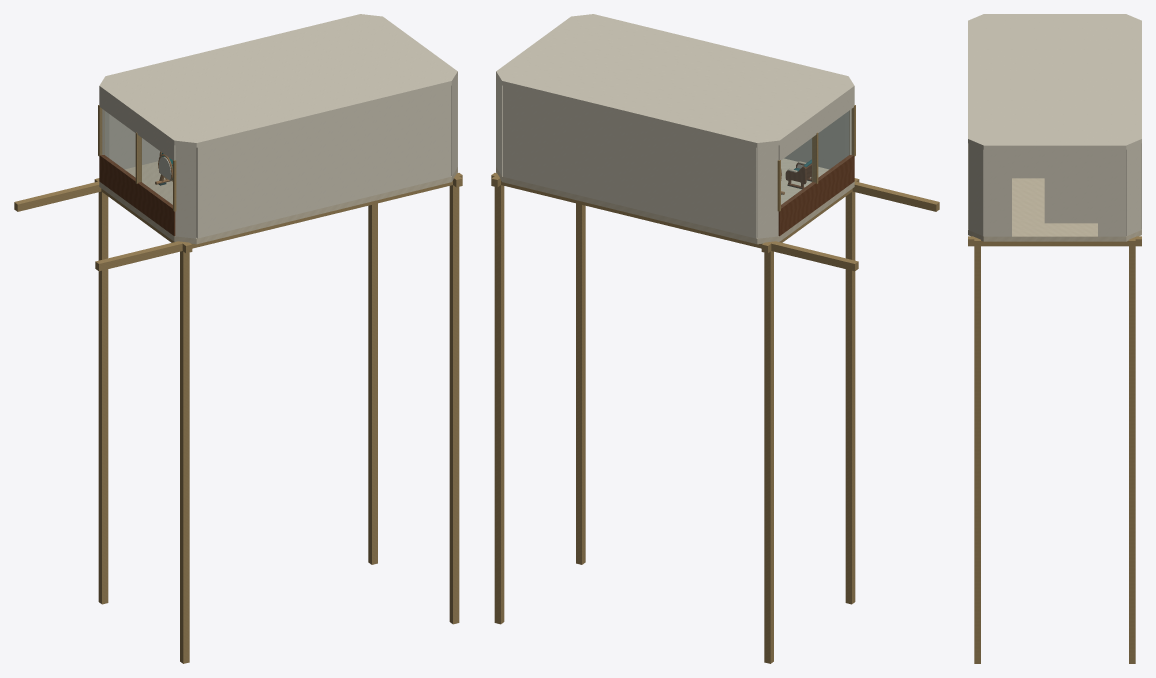
File: D04_PORT_CENTRAL_HOME_881_r001.glb
3 renders of one model, left to right at view 1: azimuth 30°, elevation 25°; view 2: azimuth 150°, elevation 25°; view 3: azimuth 270°, elevation 25°, orthographic. The views are drawn at different scales.
Visible parts, largest first — view 1: PC881_D04H880_Roof, PC881_D04H880_Shell_3, PC881_D04H880_Pier_4, PC881_D04H880_Pier_1, PC881_D04H880_Pier_2, PC881_D04H880_Pier_3, PC881_D04H880_Floor, PC881_D04H880_GardenGlass, PC881_D04H880_GardenDado, PC881_D04H880_FloorCross_1, PC881_D04H880_Shell_2, PC881_D04H880_Shell_7 (+2 smaller); view 2: PC881_D04H880_Roof, PC881_D04H880_Shell_7, PC881_D04H880_Pier_3, PC881_D04H880_Pier_2, PC881_D04H880_Pier_1, PC881_D04H880_Pier_4, PC881_D04H880_GardenGlass, PC881_D04H880_Floor, PC881_D04H880_GardenDado, PC881_D04H880_FloorCross_0, PC881_D04H880_Shell_0, PC881_D04H880_Shell_3 (+2 smaller); view 3: PC881_D04H880_Roof, PC881_D04H880_Floor, PC881_D04H880_Pier_3, PC881_D04H880_Pier_4, PC881_D04H880_EntryWall_0, PC881_D04H880_EntryWall_1, PC881_D04H880_EntryHeader, PC881_D04H880_BathDogleg, PC881_D04H880_Shell_4, PC881_D04H880_Shell_6, PC881_D04H880_Long_-46.349999999999994.
Part boxes in pixels (bbox=[...]): PC881_D04H880_Roof: bbox=[99, 14, 457, 147]; PC881_D04H880_Shell_3: bbox=[196, 85, 450, 238]; PC881_D04H880_Pier_4: bbox=[449, 175, 459, 624]; PC881_D04H880_Pier_1: bbox=[98, 191, 108, 604]; PC881_D04H880_Pier_2: bbox=[180, 241, 189, 663]; PC881_D04H880_Pier_3: bbox=[368, 203, 377, 564]; PC881_D04H880_Floor: bbox=[99, 161, 457, 244]; PC881_D04H880_GardenGlass: bbox=[101, 111, 172, 206]; PC881_D04H880_GardenDado: bbox=[99, 155, 175, 236]; PC881_D04H880_FloorCross_1: bbox=[95, 173, 462, 271]; PC881_D04H880_Shell_2: bbox=[175, 145, 196, 238]; PC881_D04H880_Shell_7: bbox=[109, 114, 160, 169]; PC881_D04H880_Roof: bbox=[496, 14, 854, 147]; PC881_D04H880_Shell_7: bbox=[503, 85, 757, 238]; PC881_D04H880_Pier_3: bbox=[494, 185, 504, 624]; PC881_D04H880_Pier_2: bbox=[845, 191, 855, 604]; PC881_D04H880_Pier_1: bbox=[764, 242, 773, 663]; PC881_D04H880_Pier_4: bbox=[576, 203, 585, 564]; PC881_D04H880_GardenGlass: bbox=[781, 111, 849, 207]; PC881_D04H880_Floor: bbox=[496, 158, 854, 244]; PC881_D04H880_GardenDado: bbox=[778, 155, 854, 236]; PC881_D04H880_FloorCross_0: bbox=[491, 173, 858, 271]; PC881_D04H880_Shell_0: bbox=[757, 145, 778, 238]; PC881_D04H880_Shell_3: bbox=[784, 114, 844, 169]; PC881_D04H880_Roof: bbox=[968, 14, 1141, 149]; PC881_D04H880_Floor: bbox=[968, 178, 1141, 241]; PC881_D04H880_Pier_3: bbox=[1129, 237, 1135, 663]; PC881_D04H880_Pier_4: bbox=[974, 237, 980, 663]; PC881_D04H880_EntryWall_0: bbox=[1098, 150, 1126, 236]; PC881_D04H880_EntryWall_1: bbox=[983, 150, 1011, 236]; PC881_D04H880_EntryHeader: bbox=[1012, 150, 1097, 178]; PC881_D04H880_BathDogleg: bbox=[1044, 178, 1097, 223]; PC881_D04H880_Shell_4: bbox=[968, 144, 983, 235]; PC881_D04H880_Shell_6: bbox=[1126, 144, 1141, 235]; PC881_D04H880_Long_-46.349999999999994: bbox=[968, 236, 1141, 246].
Bounding box in the file's own units: 16.55 × 23.78 × 7.2.
Materials: 36 (21 with a texture image).
